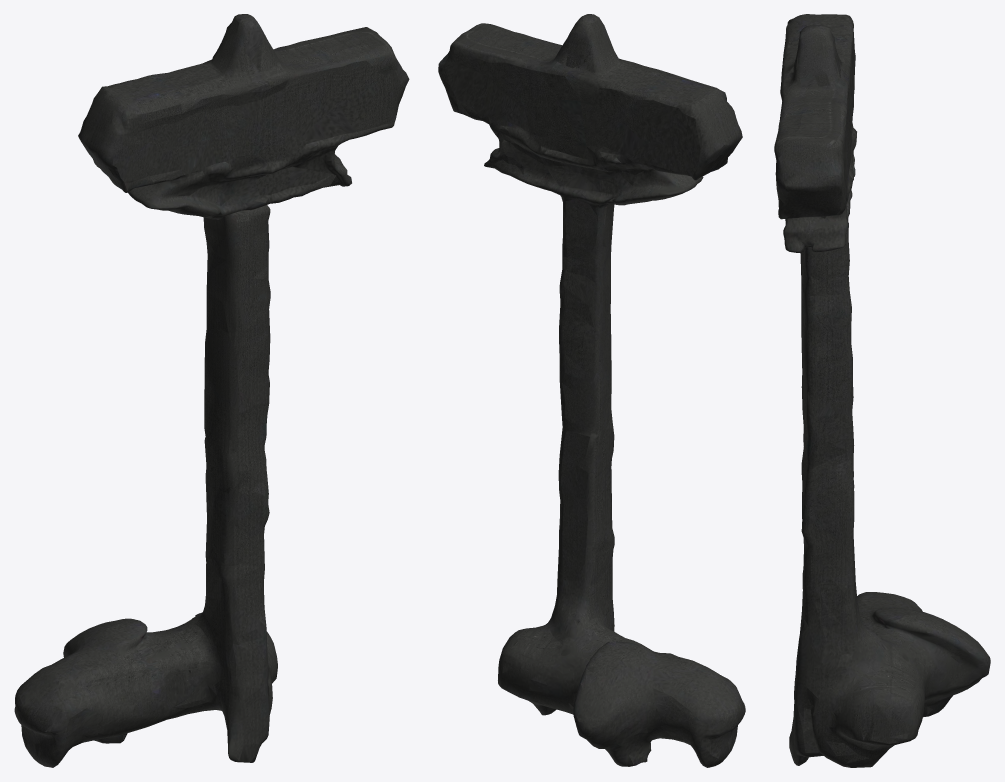
File: sign.glb
3 renders of one model, left to right at view 1: azimuth 30°, elevation 25°; view 2: azimuth 150°, elevation 25°; view 3: azimuth 270°, elevation 25°, orthographic. The views are drawn at different scales.
Visible parts, largest first — view 1: tripo_node_208c4725; view 2: tripo_node_208c4725; view 3: tripo_node_208c4725.
Part boxes in pixels (left/top/right/bottom): tripo_node_208c4725: left=14, top=14, right=409, bottom=767; tripo_node_208c4725: left=438, top=14, right=745, bottom=767; tripo_node_208c4725: left=774, top=14, right=990, bottom=767.
Bounding box in the file's own units: 0.485 × 1 × 0.2651.
Materials: 1 (1 with a texture image).
